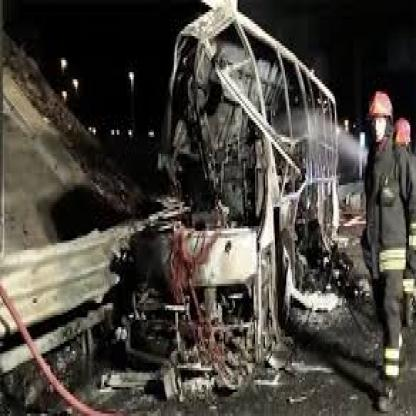accident: (8, 4, 342, 400)
